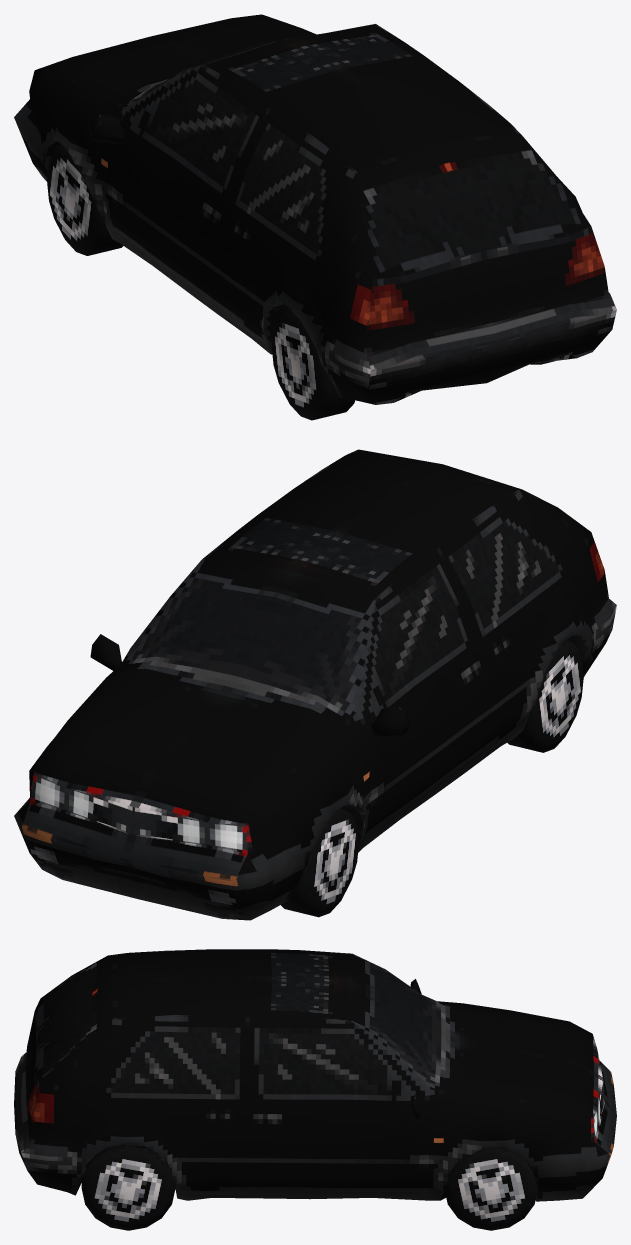
File: CLASSICBLACK.fbx
3 views of the same model, one above another, from view 1: azimuth 30°, elevation 25°; view 2: azimuth 150°, elevation 25°; view 3: azimuth 270°, elevation 25° (orthographic). The views are drawn at different scales.
Parts seen in each view (by area): view 1: BSurfaceMesh.005; view 2: BSurfaceMesh.005; view 3: BSurfaceMesh.005.
Boxes of the visible parts, <box> form: BSurfaceMesh.005: <box>14,14,616,420</box>; BSurfaceMesh.005: <box>14,449,616,920</box>; BSurfaceMesh.005: <box>14,949,616,1230</box>.
Size of the model in its own units: 260 by 196 by 529.
1 material, 1 textured.
